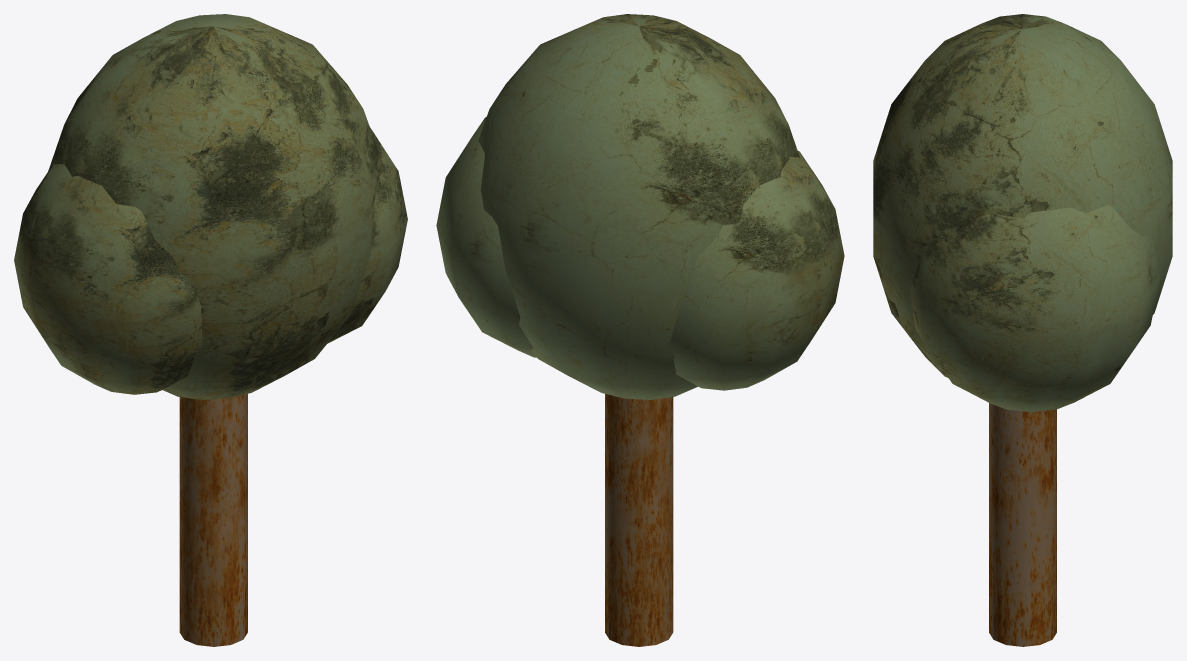
Rendered from village_tree.glb.
3 views of the same model, side by side, from view 1: azimuth 30°, elevation 25°; view 2: azimuth 150°, elevation 25°; view 3: azimuth 270°, elevation 25° (orthographic).
Bounding box in the file's own units: 2.96 × 4.7 × 2.11.
Materials: 2 (2 with a texture image).
